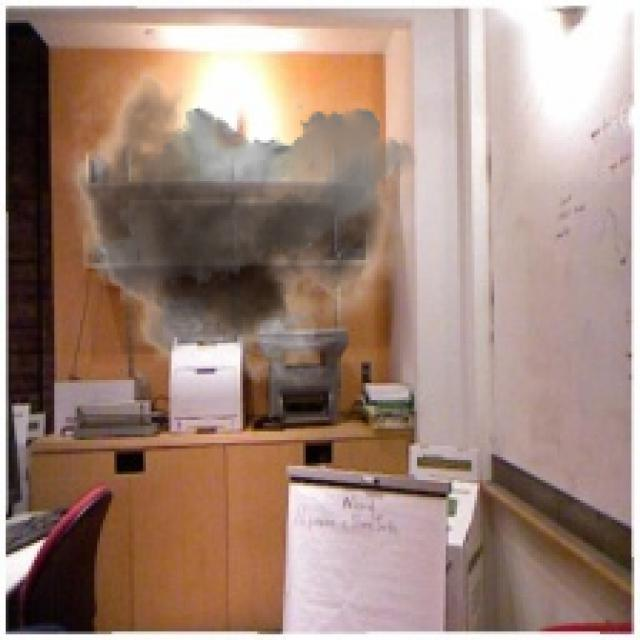smoke: (49, 0, 417, 406)
